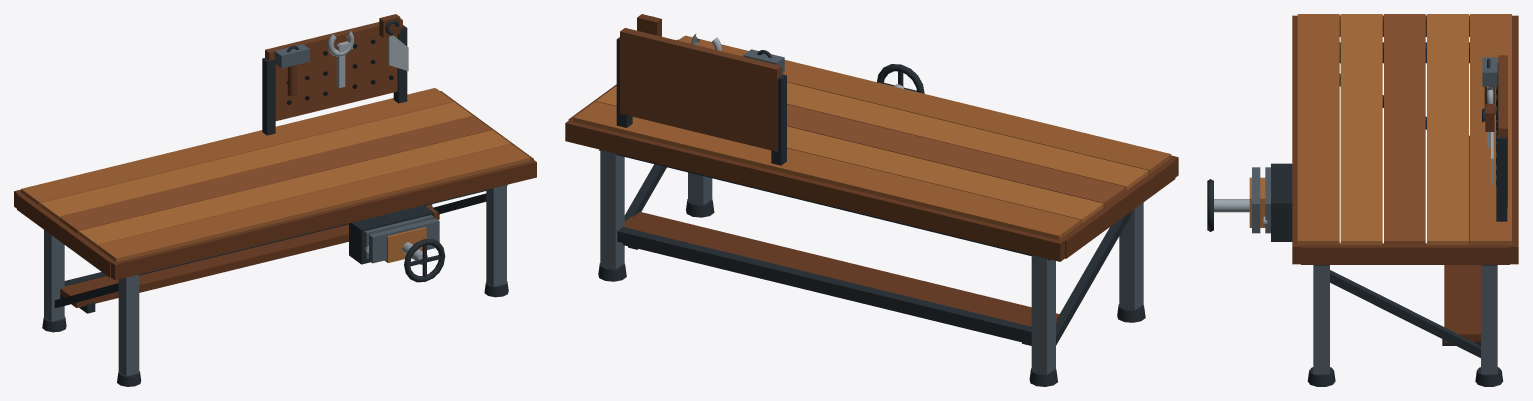
File: crafting-table-workbench.glb
3 views of the same model, side by side, from view 1: azimuth 30°, elevation 25°; view 2: azimuth 150°, elevation 25°; view 3: azimuth 270°, elevation 25° (orthographic). The views are drawn at different scales.
Visible parts, largest first — view 1: Crafting_Table_Workbench, Tool_Pegboard, Bench_Vise, Hand_Saw, Hammer, Wrench; view 2: Crafting_Table_Workbench, Tool_Pegboard, Bench_Vise; view 3: Crafting_Table_Workbench, Bench_Vise, Tool_Pegboard, Hammer, Hand_Saw.
Part boxes in pixels (x1,y1,x2,y2): Crafting_Table_Workbench: (14,88,536,386); Tool_Pegboard: (262,18,407,135); Bench_Vise: (349,205,445,282); Hand_Saw: (379,14,408,71); Hammer: (274,44,309,96); Wrench: (328,31,354,88); Crafting_Table_Workbench: (565,35,1178,386); Tool_Pegboard: (616,28,786,165); Bench_Vise: (877,64,924,93); Crafting_Table_Workbench: (1292,14,1518,386); Bench_Vise: (1207,163,1292,241); Tool_Pegboard: (1496,55,1507,221); Hammer: (1482,57,1497,114); Hand_Saw: (1482,104,1494,185).
Size of the model in its own units: 1.2 by 0.6128 by 0.6776.
